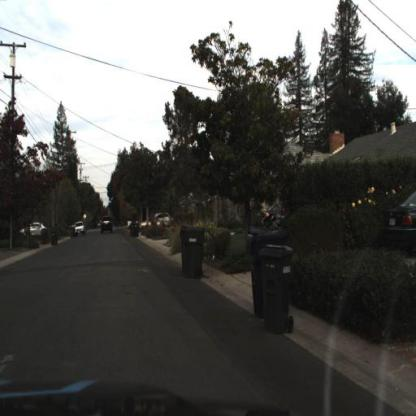car: (257, 199, 292, 234), (17, 214, 55, 239), (138, 217, 168, 242), (261, 202, 277, 226), (155, 206, 174, 225), (74, 217, 90, 239), (100, 215, 114, 236), (76, 221, 88, 237)
